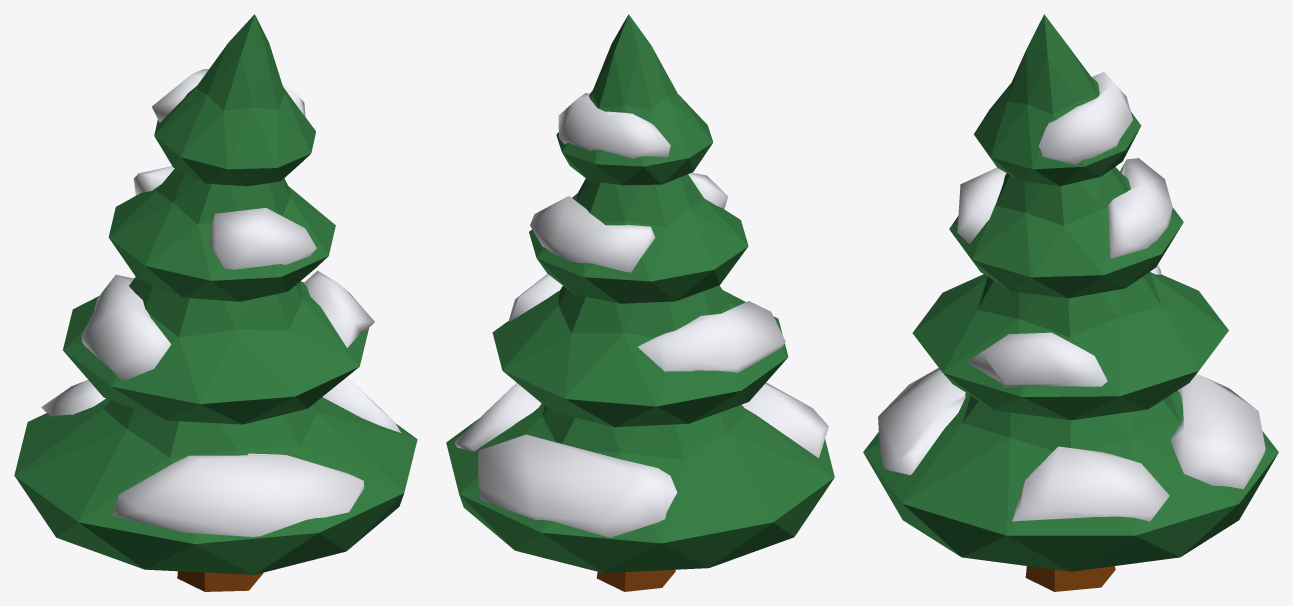
File: christmasTree.fbx
The picture shows the model from 3 angles, left to right: view 1: azimuth 30°, elevation 25°; view 2: azimuth 150°, elevation 25°; view 3: azimuth 270°, elevation 25°; orthographic projection. The views are drawn at different scales.
Parts seen in each view (by area): view 1: pine; view 2: pine; view 3: pine.
Boxes of the visible parts, box(x1,y1,x2,y2) form: pine: box(14, 14, 417, 591); pine: box(446, 14, 834, 591); pine: box(863, 14, 1278, 591).
Size of the model in its own units: 106 by 169 by 111.
